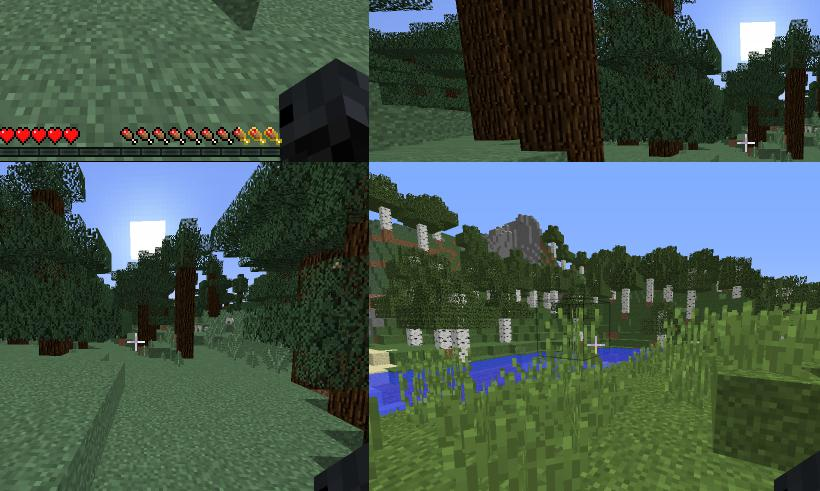minecraft-blocks: (502, 1, 610, 162), (444, 1, 517, 145), (325, 385, 369, 468), (786, 69, 808, 158), (176, 268, 198, 357), (452, 329, 470, 365), (417, 224, 430, 253), (435, 330, 453, 350), (499, 319, 513, 344), (380, 207, 394, 231), (408, 328, 424, 347), (688, 292, 696, 324), (622, 289, 630, 314), (647, 280, 654, 303), (665, 286, 674, 303), (544, 292, 551, 311), (531, 293, 538, 309), (734, 287, 742, 300), (515, 290, 522, 304), (552, 292, 559, 306)
